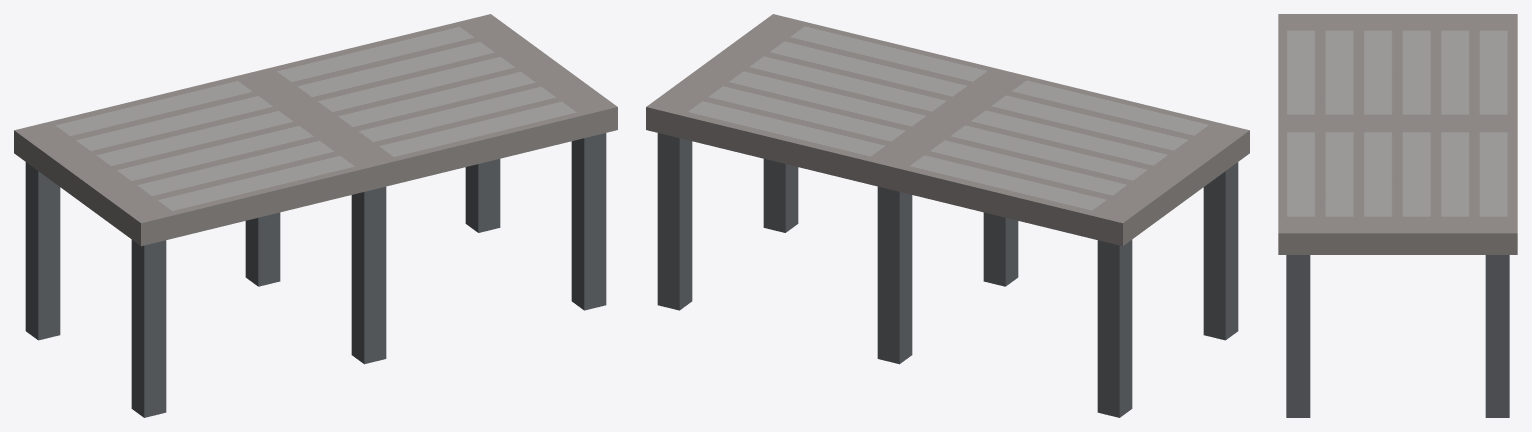
File: LightGreyMetalDecorationSmallScaffold1.fbx
3 renders of one model, left to right at view 1: azimuth 30°, elevation 25°; view 2: azimuth 150°, elevation 25°; view 3: azimuth 270°, elevation 25°, orthographic. The views are drawn at different scales.
Parts seen in each view (by area): view 1: Top, Leg2, Leg1, LightGreyMetalDecorationSmallScaffold1, Leg3, Leg4, Leg5; view 2: Top, Leg3, Leg5, Leg4, Leg2, LightGreyMetalDecorationSmallScaffold1, Leg1; view 3: Top, LightGreyMetalDecorationSmallScaffold1, Leg4.
Boxes of the visible parts, x1,y1,x2,y2 form: Top: (14,14,617,246); Leg2: (131,240,166,417); Leg1: (351,186,386,364); LightGreyMetalDecorationSmallScaffold1: (571,133,606,310); Leg3: (25,162,60,340); Leg4: (465,159,500,232); Leg5: (245,212,280,286); Top: (646,14,1249,246); Leg3: (1097,240,1132,417); Leg5: (877,186,912,364); Leg4: (657,133,692,310); Leg2: (1203,162,1238,340); LightGreyMetalDecorationSmallScaffold1: (763,159,798,232); Leg1: (983,212,1018,286); Top: (1278,14,1517,254); LightGreyMetalDecorationSmallScaffold1: (1286,255,1310,417); Leg4: (1485,255,1509,417).
Size of the model in its own units: 650 by 260 by 300.
2 materials, 1 textured.
